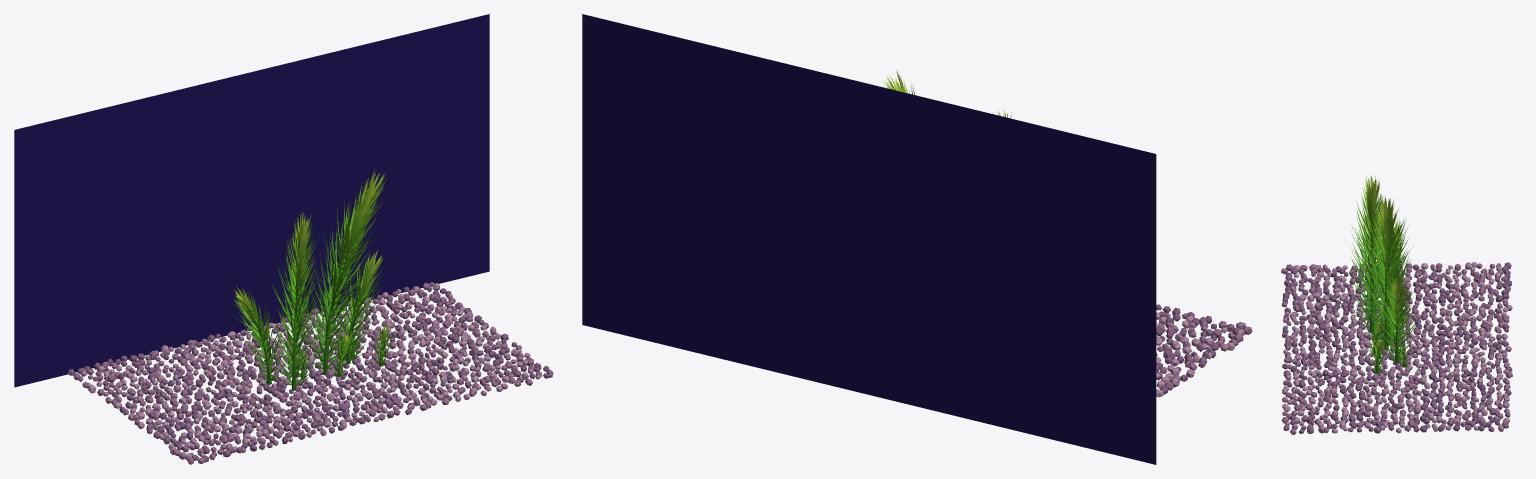
Rendered from 水蘊草.glb.
3 views of the same model, side by side, from view 1: azimuth 30°, elevation 25°; view 2: azimuth 150°, elevation 25°; view 3: azimuth 270°, elevation 25° (orthographic). The views are drawn at different scales.
Parts seen in each view (by area): view 1: Backdrop, Gravel, Hydrilla; view 2: Backdrop, Gravel; view 3: Gravel, Hydrilla.
Part boxes in pixels (<box>): Backdrop: <box>14,14,489,387</box>; Gravel: <box>67,282,553,464</box>; Hydrilla: <box>233,168,391,390</box>; Backdrop: <box>582,14,1156,464</box>; Gravel: <box>1156,304,1252,397</box>; Gravel: <box>1281,262,1512,434</box>; Hydrilla: <box>1349,175,1419,373</box>.
Bounding box in the file's own units: 2.8 × 1.45 × 1.33.
